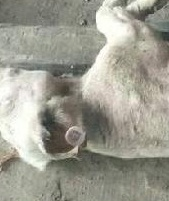text: (58, 113, 95, 157)
